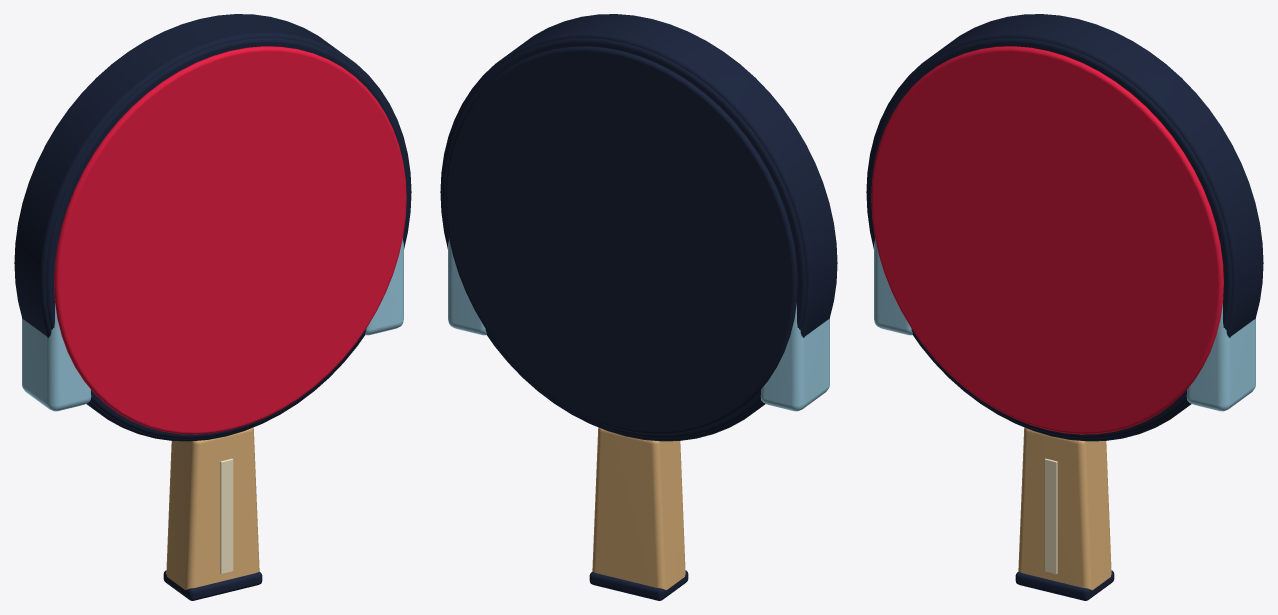
File: MegaSmash.fbx
3 renders of one model, left to right at view 1: azimuth 30°, elevation 25°; view 2: azimuth 150°, elevation 25°; view 3: azimuth 330°, elevation 25°, orthographic.
Visible parts, largest first — view 1: FrontRubber, OuterRim, WoodHandle, RimLip, PowerGuard-1, PowerGuard1, HandleInlay, HandleButt; view 2: BackRubber, OuterRim, WoodHandle, RimLip, PowerGuard-1, PowerGuard1, HandleButt; view 3: FrontRubber, OuterRim, WoodHandle, RimLip, PowerGuard1, PowerGuard-1, HandleInlay, HandleButt.
Part boxes in pixels (x1,y1,x2,y2): FrontRubber: (54,46,406,434); OuterRim: (14,14,411,441); WoodHandle: (166,427,259,590); RimLip: (45,38,409,438); PowerGuard-1: (22,303,91,411); PowerGuard1: (365,238,403,335); HandleInlay: (220,458,233,574); HandleButt: (163,570,262,600); BackRubber: (445,46,797,434); OuterRim: (440,14,837,441); WoodHandle: (592,427,685,590); RimLip: (442,38,806,438); PowerGuard-1: (760,303,829,411); PowerGuard1: (448,238,486,335); HandleButt: (589,570,688,600); FrontRubber: (871,46,1223,434); OuterRim: (866,14,1263,441); WoodHandle: (1018,427,1111,590); RimLip: (868,38,1232,438); PowerGuard1: (1186,303,1255,411); PowerGuard-1: (874,238,912,335); HandleInlay: (1044,458,1057,574); HandleButt: (1015,570,1114,600).
Size of the model in its own units: 76 by 109 by 13.7.
